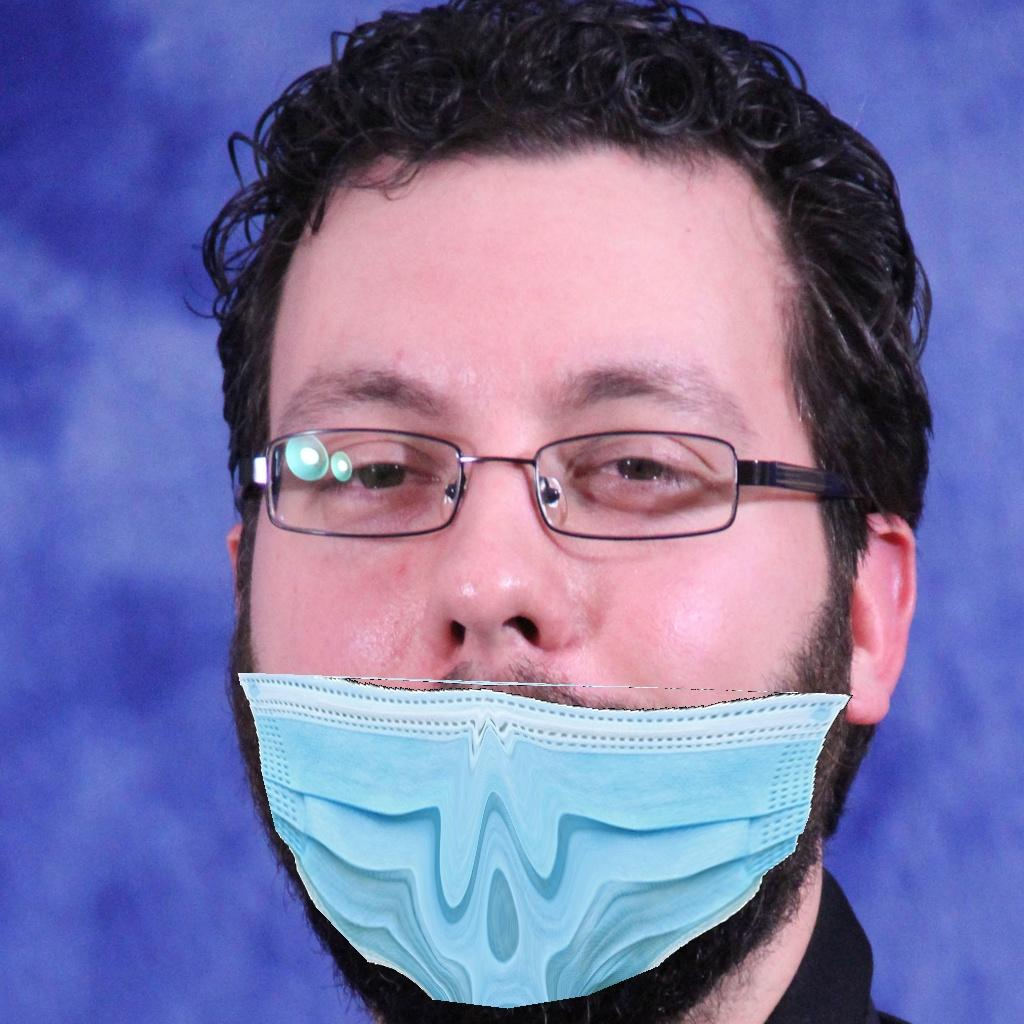Máscara Incorreta: (247, 283, 842, 990)
